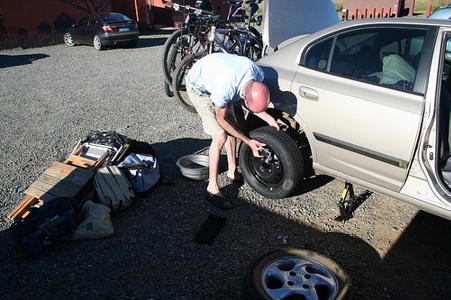person: (184, 50, 287, 209)
